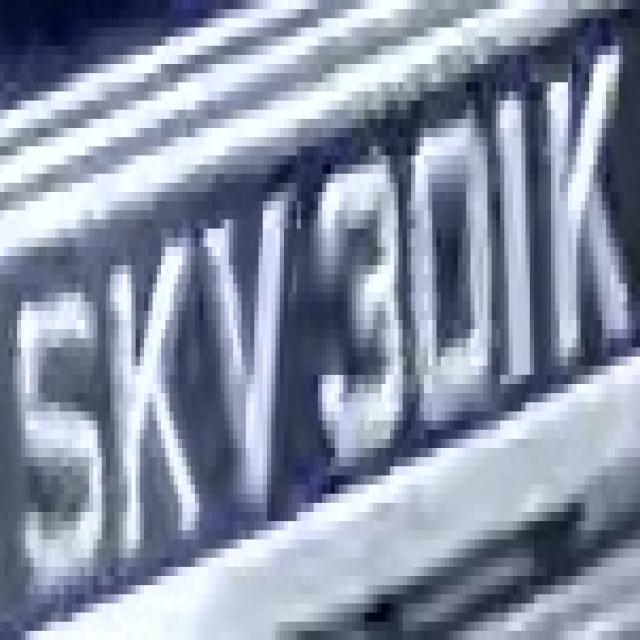0: (398, 73, 496, 430)
1: (479, 64, 547, 439)
3: (301, 137, 407, 485)
K: (93, 220, 208, 594), (530, 27, 623, 366)
S: (5, 247, 114, 594)
V: (186, 174, 292, 539)
